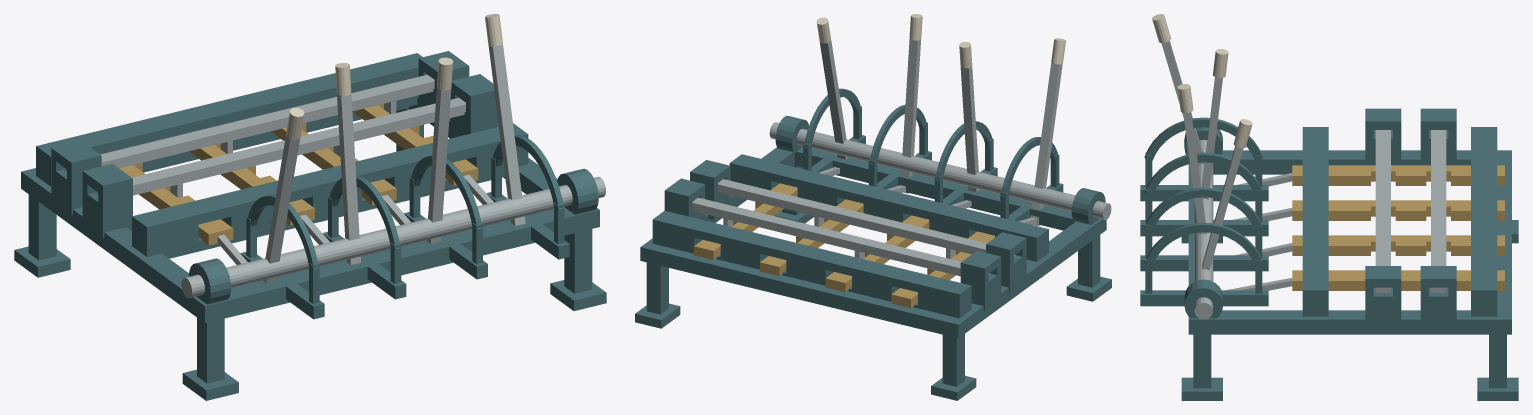
The picture shows the model from 3 angles, left to right: view 1: azimuth 30°, elevation 25°; view 2: azimuth 150°, elevation 25°; view 3: azimuth 270°, elevation 25°; orthographic projection. The views are drawn at different scales.
Parts seen in each view (by area): view 1: WholeOpenBedPerimeter, WholeFourWindowBarGuide0, WholeFourWindowBarGuide1, WholeCommonFrontShaft, WholeCrossBarWithIntegralDogs1, WholeCrossBarWithIntegralDogs0, WholeLeftCrossBarSeat0, WholeGroundedBedLeg0, WholeGroundedBedLeg1, WholeGroundedBedLeg2, WholeLeftCrossBarSeat1, WholeLongHandLever3 (+19 smaller); view 2: WholeOpenBedPerimeter, WholeFourWindowBarGuide1, WholeFourWindowBarGuide0, WholeCommonFrontShaft, WholeCrossBarWithIntegralDogs1, WholeCrossBarWithIntegralDogs0, WholeLeftCrossBarSeat1, WholeGroundedBedLeg2, WholeGroundedBedLeg3, WholeLongHandLever0, WholeGroundedBedLeg0, WholeLeftCrossBarSeat0 (+15 smaller); view 3: WholeOpenBedPerimeter, WholeFourWindowBarGuide0, WholeFourWindowBarGuide1, WholeLongSideNotchedStrip0, WholeLongSideNotchedStrip1, WholeLongSideNotchedStrip2, WholeCrossBarWithIntegralDogs0, WholeCrossBarWithIntegralDogs1, WholeRightCrossBarSeat0, WholeRightCrossBarSeat1, WholeLongSideNotchedStrip3, WholeGroundedBedLeg1 (+23 smaller).
Boxes of the visible parts, x1,y1,x2,y2 form: WholeOpenBedPerimeter: (21, 97, 599, 323); WholeFourWindowBarGuide0: (132, 123, 528, 258); WholeFourWindowBarGuide1: (36, 53, 422, 186); WholeCommonFrontShaft: (181, 177, 605, 298); WholeCrossBarWithIntegralDogs1: (65, 74, 434, 170); WholeCrossBarWithIntegralDogs0: (96, 97, 465, 197); WholeLeftCrossBarSeat0: (82, 163, 132, 238); WholeGroundedBedLeg0: (182, 318, 238, 400); WholeGroundedBedLeg1: (550, 229, 606, 310); WholeGroundedBedLeg2: (14, 194, 70, 277); WholeLeftCrossBarSeat1: (51, 140, 101, 215); WholeLongHandLever3: (488, 36, 525, 225); WholeOpenBedPerimeter: (640, 147, 1106, 338); WholeFourWindowBarGuide1: (652, 210, 971, 318); WholeFourWindowBarGuide0: (729, 154, 1048, 261); WholeCommonFrontShaft: (769, 122, 1111, 219); WholeCrossBarWithIntegralDogs1: (692, 197, 989, 276); WholeCrossBarWithIntegralDogs0: (718, 179, 1015, 258); WholeLeftCrossBarSeat1: (960, 250, 1001, 310); WholeGroundedBedLeg2: (931, 334, 976, 400); WholeGroundedBedLeg3: (635, 262, 680, 328); WholeLongHandLever0: (1030, 56, 1062, 225); WholeGroundedBedLeg0: (1066, 235, 1111, 301); WholeLeftCrossBarSeat0: (986, 232, 1026, 292); WholeOpenBedPerimeter: (1188, 150, 1511, 334); WholeFourWindowBarGuide0: (1302, 127, 1328, 316); WholeFourWindowBarGuide1: (1471, 127, 1497, 316); WholeLongSideNotchedStrip0: (1292, 165, 1504, 185); WholeLongSideNotchedStrip1: (1292, 200, 1504, 220); WholeLongSideNotchedStrip2: (1292, 235, 1504, 255); WholeCrossBarWithIntegralDogs0: (1375, 130, 1390, 292); WholeCrossBarWithIntegralDogs1: (1431, 130, 1446, 292); WholeRightCrossBarSeat0: (1365, 266, 1401, 325); WholeRightCrossBarSeat1: (1420, 266, 1456, 325); WholeLongSideNotchedStrip3: (1292, 270, 1504, 290); WholeGroundedBedLeg1: (1181, 334, 1222, 400).
Bounding box in the file's own units: 3.04 × 1.97 × 2.74.
